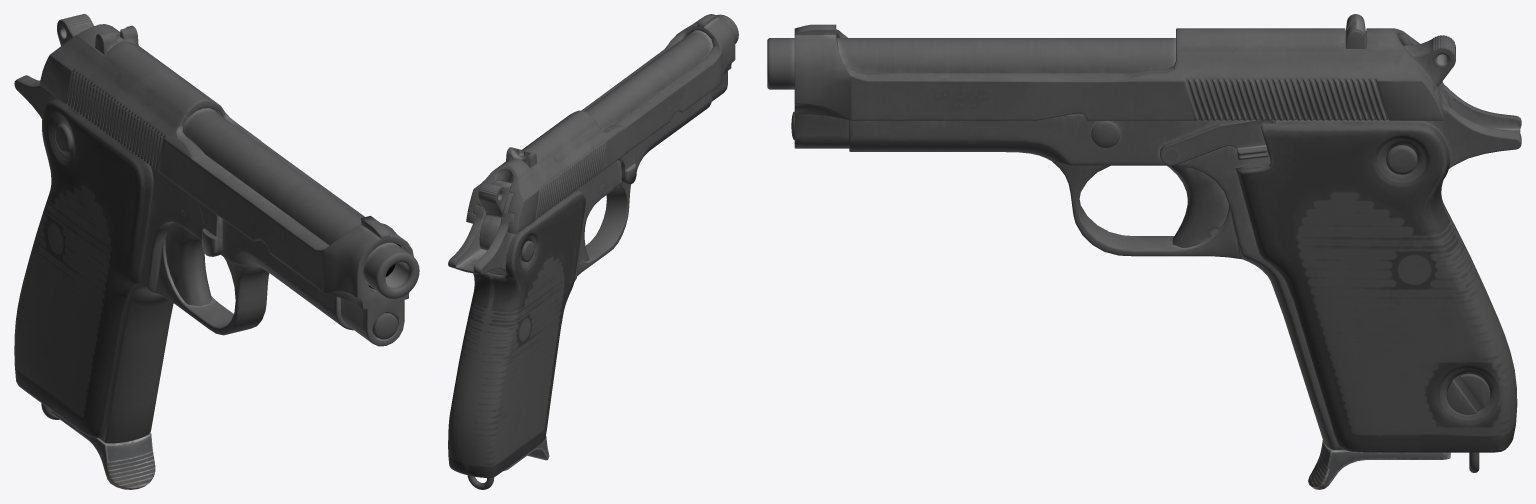
The picture shows the model from 3 angles, left to right: view 1: azimuth 30°, elevation 25°; view 2: azimuth 150°, elevation 25°; view 3: azimuth 270°, elevation 25°; orthographic projection. The views are drawn at different scales.
Visible parts, largest first — view 1: Helwan, Slide, Magazine, Trigger, SlideLock, Hammer; view 2: Helwan, Slide, Hammer, SlideLock, Magazine; view 3: Helwan, Slide, SlideCatch, Trigger, Magazine, Hammer, MagRelease.
Part boxes in pixels (x1,y1,x2,y2): Helwan: (14, 75, 419, 443); Slide: (39, 24, 413, 346); Magazine: (51, 410, 155, 489); Trigger: (165, 223, 211, 306); SlideLock: (198, 202, 222, 256); Hammer: (57, 14, 93, 45); Helwan: (448, 14, 738, 489); Slide: (466, 14, 735, 233); Hammer: (478, 179, 511, 250); SlideLock: (618, 147, 636, 184); Magazine: (504, 436, 549, 470); Helwan: (767, 38, 1521, 472); Slide: (794, 14, 1444, 148); SlideCatch: (1160, 119, 1275, 165); Trigger: (1167, 165, 1228, 247); Magazine: (1308, 440, 1450, 489); Hammer: (1403, 35, 1455, 107); MagRelease: (1446, 373, 1490, 414).
Size of the model in its own units: 1.01 by 6.04 by 8.93.
Materials: 4 (2 with a texture image).
